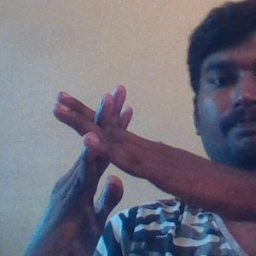W: (39, 74, 169, 230)
